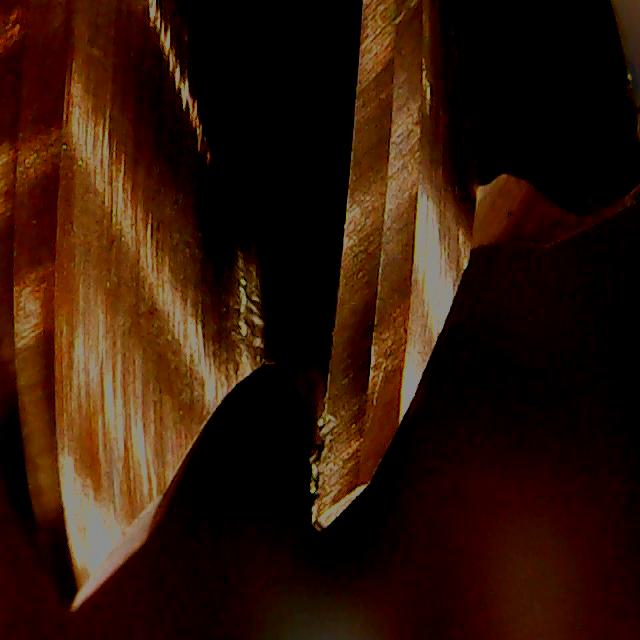Tool-wear-class-1: (302, 232, 406, 539)
